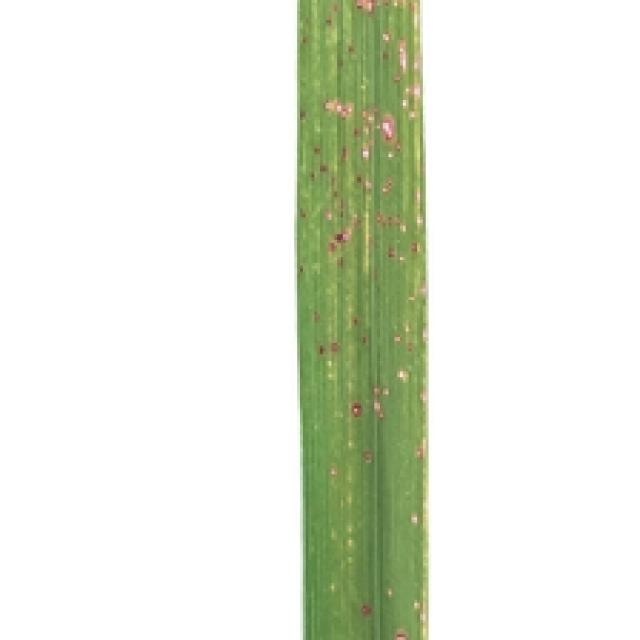Rice___Brown_Spot: (298, 1, 431, 637)
